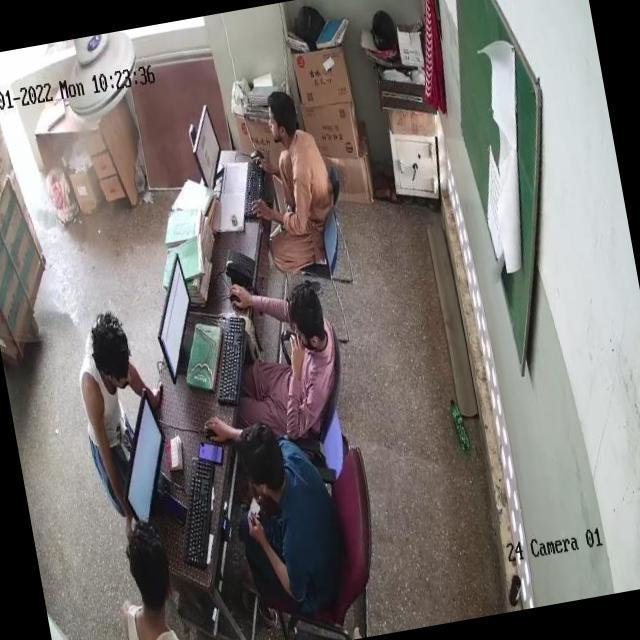person: (224, 401, 354, 609), (69, 302, 157, 514), (233, 280, 354, 434), (258, 81, 339, 268), (116, 520, 189, 640)
